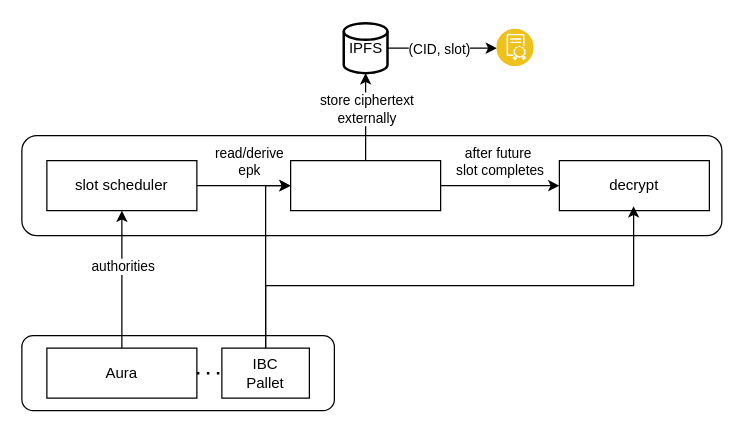
Some shapes in this 744 by 433 pixel diagram are drawn without their labels. Each missing label, with the box of its shape:
"Filesystem" contract: (496, 29, 534, 66)
encrypt (shared key): (289, 159, 441, 211)
